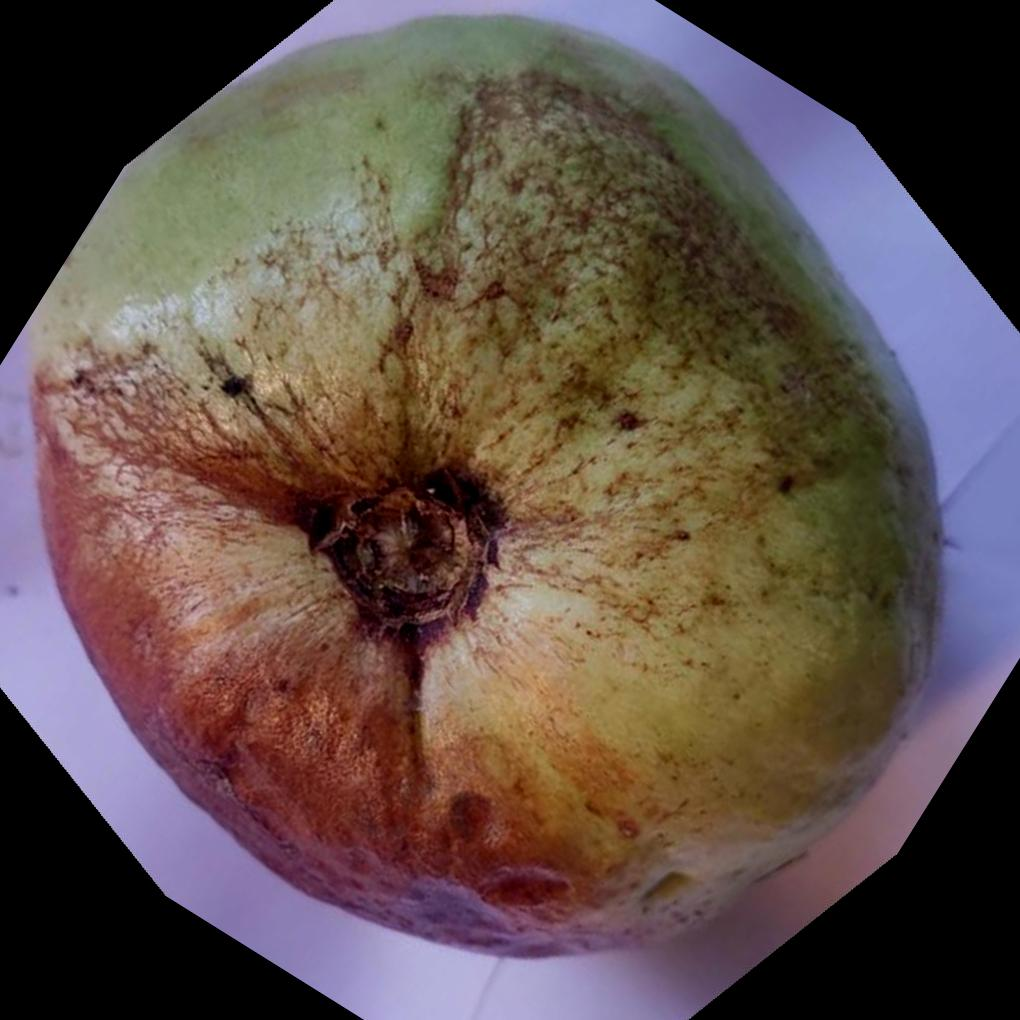FreshOrange: (30, 13, 948, 959)
